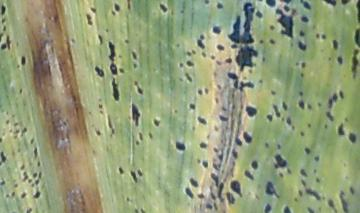tarspot: (240, 2, 255, 45), (275, 7, 295, 38), (236, 47, 256, 73), (229, 16, 240, 44), (338, 190, 349, 213), (230, 180, 243, 198), (107, 40, 117, 62), (131, 103, 140, 126), (352, 48, 359, 77), (274, 154, 288, 168), (266, 182, 279, 197), (111, 77, 119, 101), (304, 188, 320, 200), (210, 169, 219, 188), (240, 80, 255, 91), (245, 105, 257, 117), (217, 184, 225, 202), (84, 13, 94, 27), (328, 198, 337, 213), (353, 27, 360, 46), (244, 169, 255, 181), (188, 175, 199, 187), (226, 192, 236, 205), (196, 114, 207, 125), (95, 65, 105, 77), (242, 131, 252, 143), (106, 114, 113, 130), (110, 62, 118, 76), (272, 104, 280, 118), (337, 122, 345, 136), (130, 170, 138, 184), (184, 187, 194, 198), (348, 132, 357, 144), (175, 141, 185, 151), (212, 24, 221, 35), (6, 35, 12, 50), (159, 3, 168, 13), (197, 39, 206, 49), (250, 160, 259, 170), (297, 42, 307, 51), (113, 1, 121, 12), (218, 114, 229, 122), (356, 1, 360, 23), (285, 115, 293, 126), (226, 72, 238, 79), (298, 100, 305, 112), (323, 1, 337, 7), (348, 184, 355, 196), (184, 73, 193, 82), (234, 137, 243, 146), (299, 168, 308, 177), (198, 141, 208, 149), (336, 56, 344, 66), (20, 55, 27, 66), (231, 149, 238, 160), (1, 150, 7, 162), (255, 10, 263, 19), (304, 1, 312, 10), (202, 159, 209, 169), (266, 113, 273, 123), (327, 112, 334, 122), (21, 172, 28, 182), (97, 34, 103, 45), (265, 1, 276, 7), (33, 191, 41, 199), (153, 118, 160, 127), (216, 44, 225, 51), (224, 57, 233, 64), (33, 147, 38, 159), (233, 79, 239, 89), (282, 101, 288, 111), (327, 97, 332, 109), (332, 40, 338, 50), (264, 203, 270, 213), (138, 167, 144, 177), (94, 130, 102, 137), (89, 6, 97, 13), (131, 51, 138, 59), (138, 133, 145, 141), (198, 33, 206, 40), (216, 2, 224, 9), (217, 153, 224, 161), (301, 16, 309, 23), (283, 5, 291, 12), (204, 202, 212, 209), (197, 193, 205, 200), (307, 206, 315, 213), (339, 88, 344, 99), (341, 1, 352, 6), (1, 5, 7, 14), (137, 86, 143, 95), (147, 131, 153, 140), (212, 162, 218, 171), (283, 207, 292, 213), (300, 178, 306, 187), (333, 92, 338, 102), (110, 9, 117, 16), (189, 103, 196, 110), (190, 48, 197, 55), (268, 38, 275, 45), (320, 33, 327, 40), (96, 103, 104, 109), (186, 61, 194, 67), (299, 29, 305, 37), (210, 192, 216, 200), (298, 189, 304, 197), (126, 1, 131, 10), (1, 43, 7, 50), (21, 127, 27, 134), (178, 61, 184, 68), (175, 42, 181, 49), (209, 54, 216, 60), (216, 83, 222, 90), (214, 98, 220, 105), (216, 59, 222, 66), (269, 24, 275, 31), (304, 148, 310, 155), (299, 130, 305, 137), (264, 142, 270, 149), (254, 194, 260, 201), (285, 168, 292, 174), (312, 156, 319, 162), (26, 207, 33, 213), (21, 192, 27, 199), (32, 171, 39, 177), (248, 67, 254, 74), (204, 87, 209, 95), (201, 50, 206, 58), (38, 170, 43, 178), (191, 125, 197, 131), (197, 89, 203, 95), (213, 147, 219, 153), (294, 61, 300, 67), (323, 123, 329, 129), (279, 172, 285, 178), (293, 197, 299, 203), (12, 188, 16, 197), (5, 193, 11, 199), (18, 88, 23, 95), (30, 138, 35, 145), (70, 38, 77, 43), (119, 67, 124, 74), (123, 39, 130, 44), (178, 76, 183, 83), (196, 157, 201, 164), (302, 62, 307, 69), (300, 72, 305, 79), (315, 33, 320, 40), (276, 144, 281, 151), (119, 167, 124, 174), (35, 178, 40, 185), (214, 203, 218, 211), (20, 164, 25, 170), (13, 122, 19, 127), (134, 80, 139, 86), (173, 108, 178, 114), (205, 134, 211, 139), (186, 51, 192, 56), (204, 1, 210, 6), (270, 90, 276, 95), (307, 104, 312, 110), (282, 1, 292, 4), (344, 116, 349, 122), (306, 123, 312, 128), (316, 178, 321, 184), (140, 208, 146, 213), (111, 130, 116, 136), (30, 183, 36, 188), (3, 25, 7, 32), (231, 45, 238, 49), (5, 119, 10, 124), (13, 135, 18, 140), (118, 54, 123, 59), (99, 110, 104, 115), (135, 140, 140, 145), (180, 9, 185, 14), (259, 39, 264, 44), (299, 91, 304, 96), (317, 102, 322, 107), (126, 197, 131, 202), (134, 208, 139, 213), (1, 180, 6, 185), (27, 178, 32, 183), (2, 17, 6, 23), (37, 160, 41, 166), (16, 128, 20, 134), (133, 63, 137, 69), (258, 79, 264, 83), (328, 56, 332, 62), (290, 42, 294, 48), (281, 116, 285, 122), (313, 168, 317, 174), (262, 55, 265, 62), (1, 33, 3, 43), (105, 28, 109, 33), (222, 107, 227, 111), (214, 126, 218, 131), (13, 184, 18, 188), (11, 114, 16, 118), (291, 126, 295, 130), (322, 196, 326, 200), (8, 129, 13, 132), (319, 206, 322, 211), (17, 65, 21, 68), (300, 1, 305, 3), (1, 136, 2, 143), (1, 162, 2, 167)
